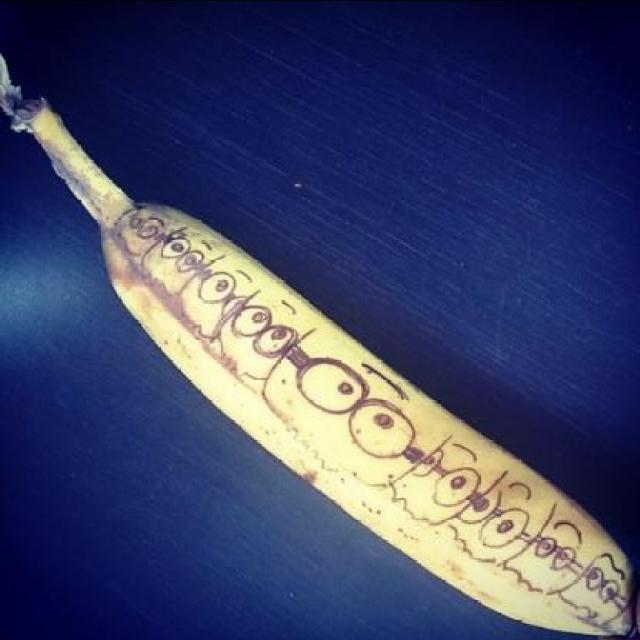Banana: (6, 87, 640, 590)
